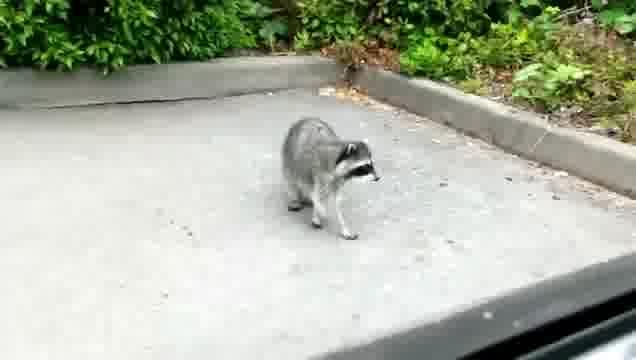raccoon: (270, 110, 385, 251)
